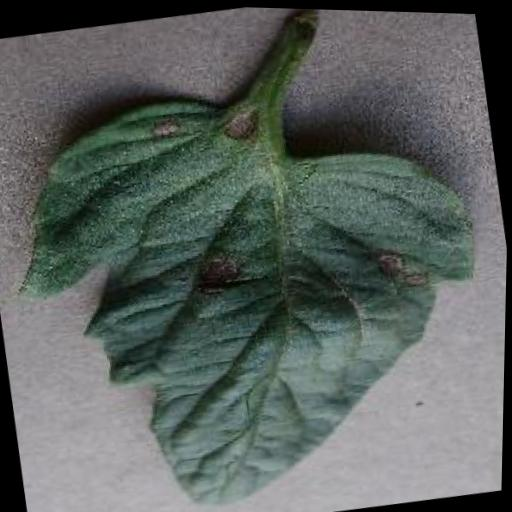Early Blight: (0, 43, 511, 512)
